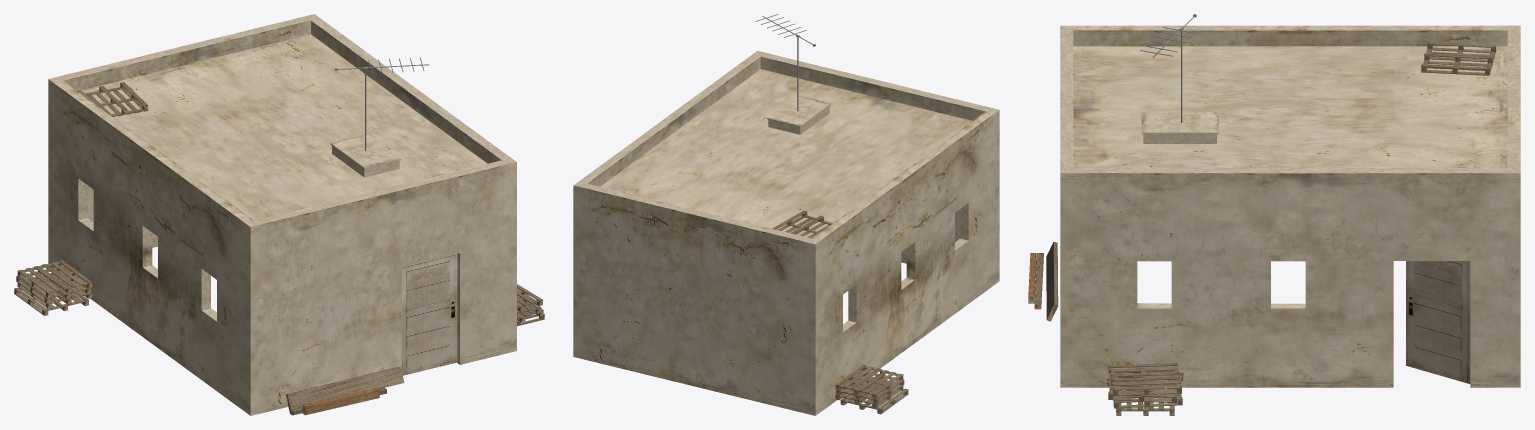
File: adobe_house.FBX
The picture shows the model from 3 angles, left to right: view 1: azimuth 30°, elevation 25°; view 2: azimuth 150°, elevation 25°; view 3: azimuth 270°, elevation 25°; orthographic projection. The views are drawn at different scales.
Visible parts, largest first — view 1: abuild (×3), abuild-door, abuildA-wood-b13, abuildB-apallette21, abuild-apallette, abuildA-wood-a13, abuildB-apallette19, abuildB-apallette18, abuildB-apallette20; view 2: abuild (×3), abuildB-apallette21, abuild-apallette, abuildB-apallette19, abuildB-apallette20, abuildB-apallette18, abuild-Antenne; view 3: abuild (×3), abuild-door, abuildB-apallette15 (×2), abuild-apallette, abuildA-wood-b13, abuildB-apallette16, abuildB-apallette17, abuild-Antenne.
Part boxes in pixels (<box>): abuild (×3): <box>48,14,516,415</box>; abuild-door: <box>401,254,457,375</box>; abuildA-wood-b13: <box>286,366,404,415</box>; abuildB-apallette21: <box>17,260,92,297</box>; abuild-apallette: <box>77,82,148,117</box>; abuildA-wood-a13: <box>302,387,379,415</box>; abuildB-apallette19: <box>16,267,91,303</box>; abuildB-apallette18: <box>14,287,88,315</box>; abuildB-apallette20: <box>17,273,92,308</box>; abuild (×3): <box>573,51,999,415</box>; abuildB-apallette21: <box>835,364,903,399</box>; abuild-apallette: <box>772,210,832,238</box>; abuildB-apallette19: <box>836,371,904,404</box>; abuildB-apallette20: <box>835,376,903,409</box>; abuildB-apallette18: <box>840,388,908,414</box>; abuild-Antenne: <box>755,14,815,110</box>; abuild (×3): <box>1060,25,1520,387</box>; abuild-door: <box>1406,261,1470,383</box>; abuildB-apallette15 (×2): <box>1108,363,1181,415</box>; abuild-apallette: <box>1421,42,1496,75</box>; abuildA-wood-b13: <box>1034,241,1058,321</box>; abuildB-apallette16: <box>1108,369,1183,403</box>; abuildB-apallette17: <box>1107,375,1182,408</box>; abuild-Antenne: <box>1140,14,1196,122</box>.
Size of the model in its own units: 735 by 508 by 742.
